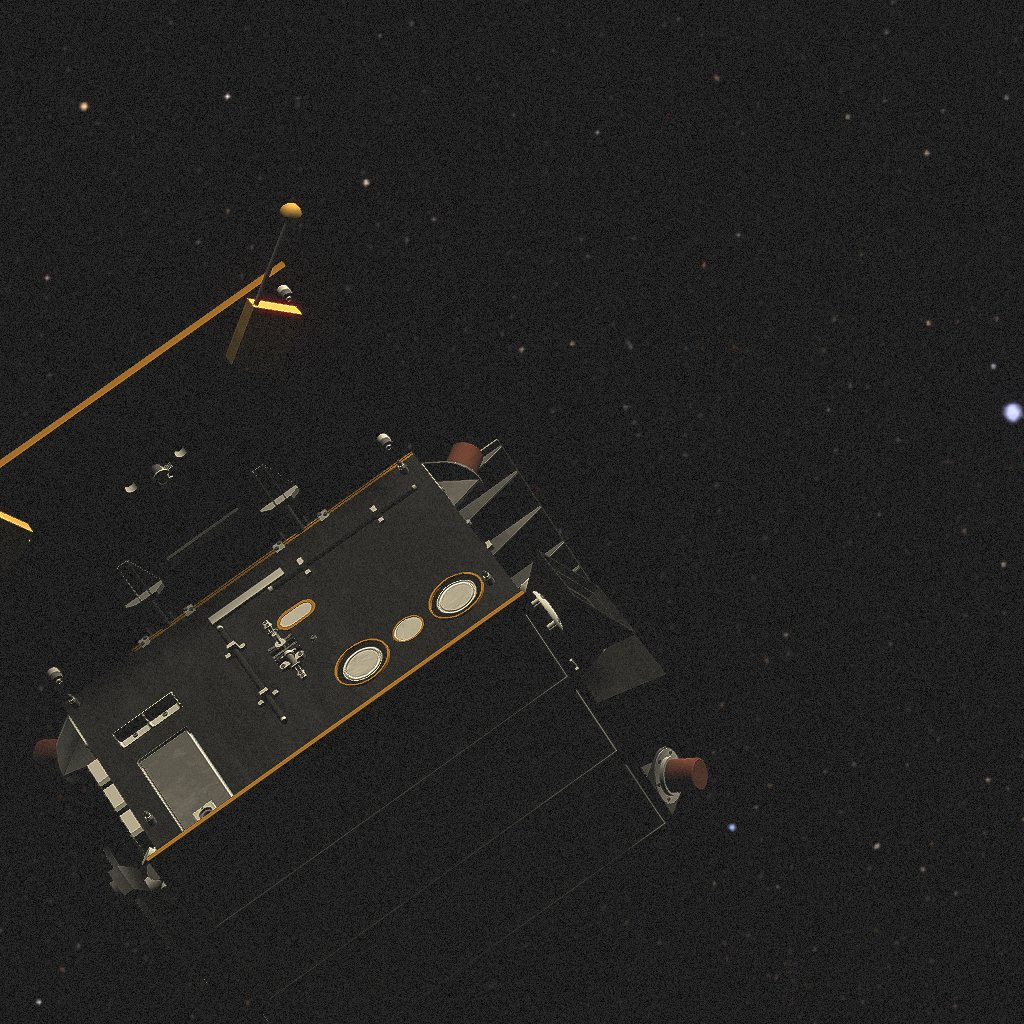proba_2: (0, 203, 708, 1024)
